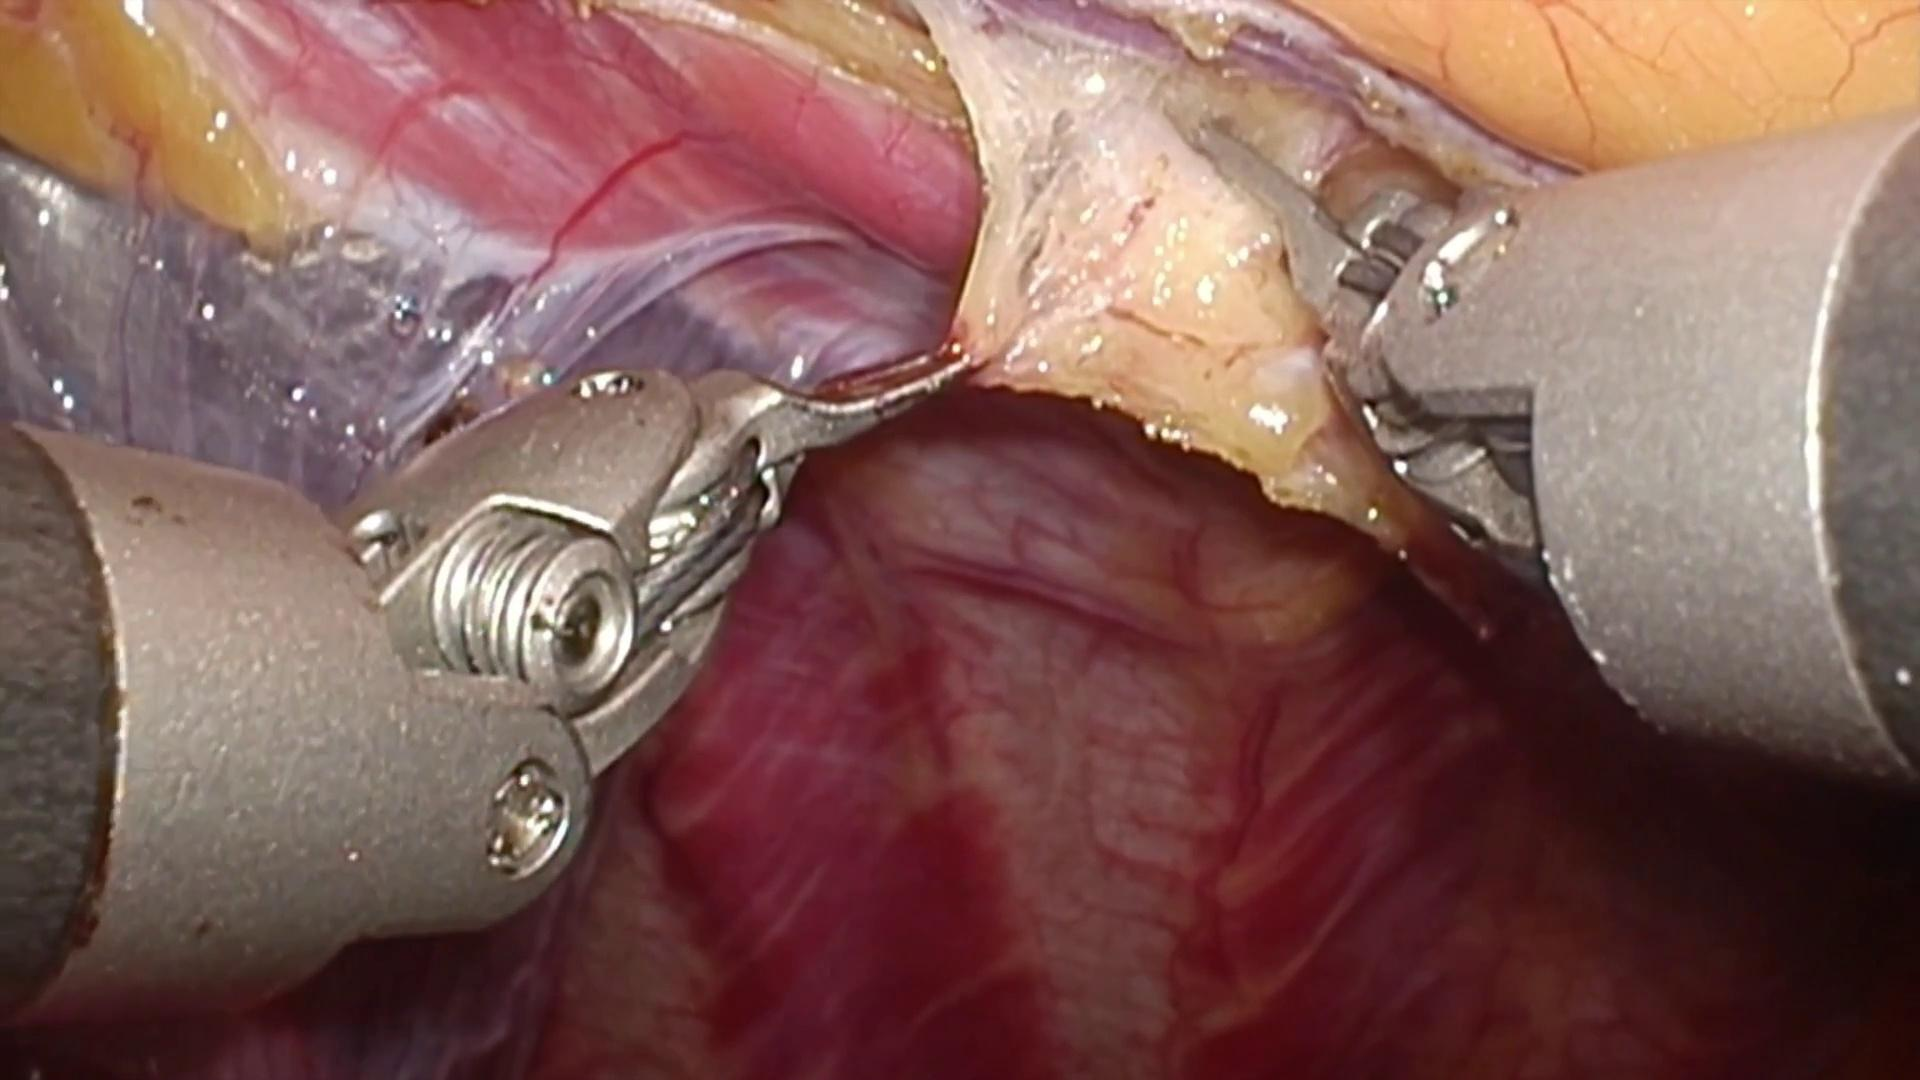Debakey: (669, 331, 1013, 495)
clipper: (1193, 123, 1596, 611)
